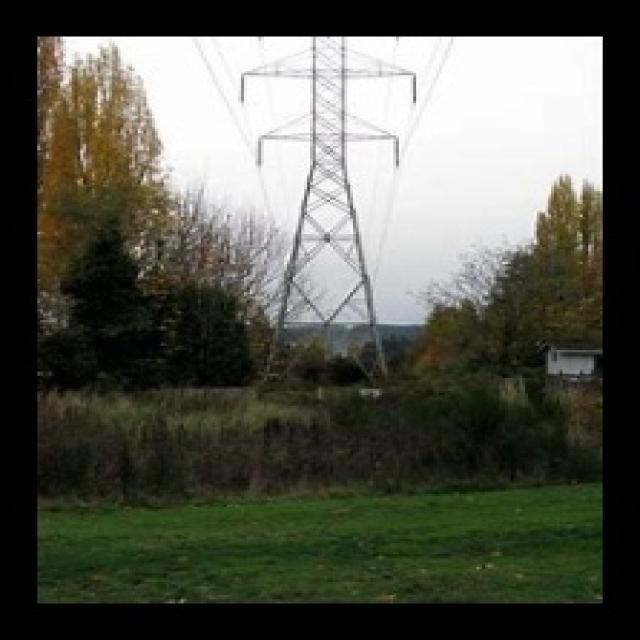utility poles: (217, 273, 318, 406), (341, 305, 458, 414)
